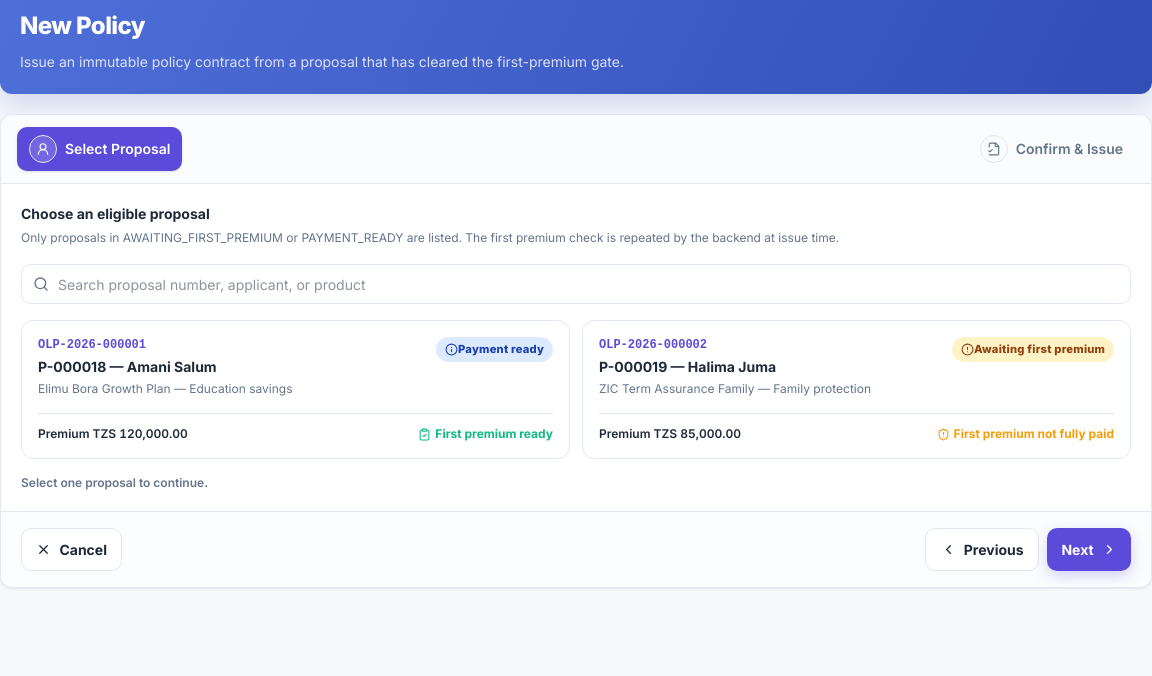
PolicyIssuanceWizard › renders ErrorCoach when the backend rejects an otherwise ready proposal
The image size is (1152, 676).
Click the button "OLP-2026-000001" at (296, 390), box [21,320,570,459]
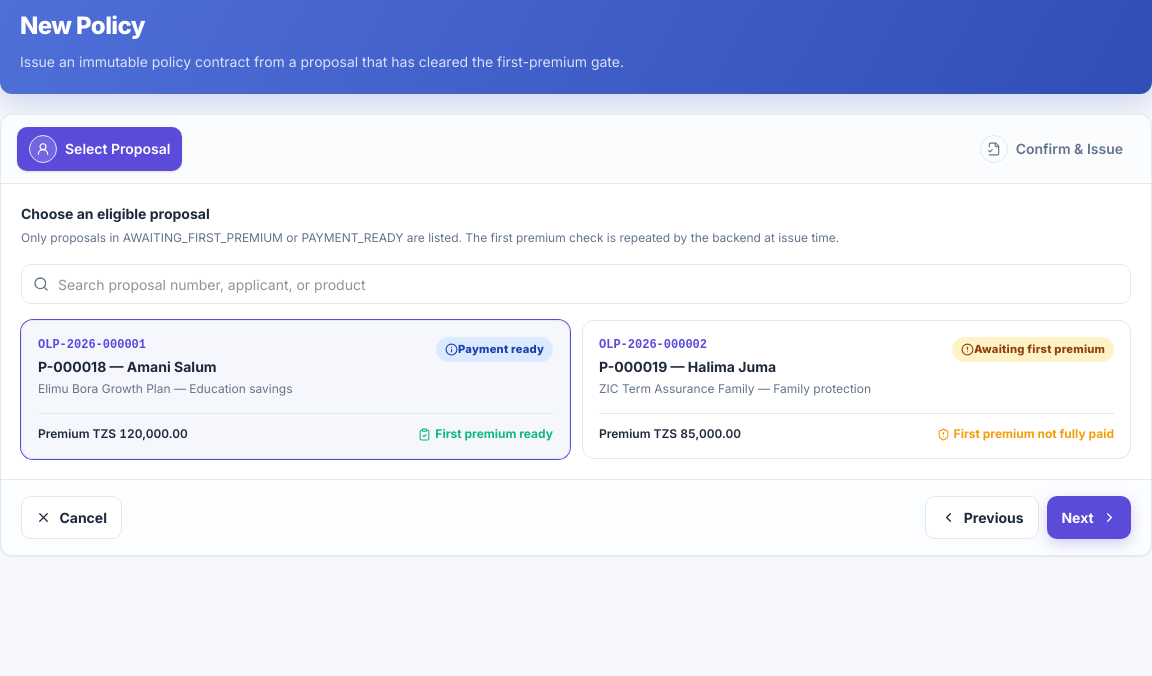
Click the button "Next" at (1089, 518), box [1047,496,1131,539]
(page scrolled)
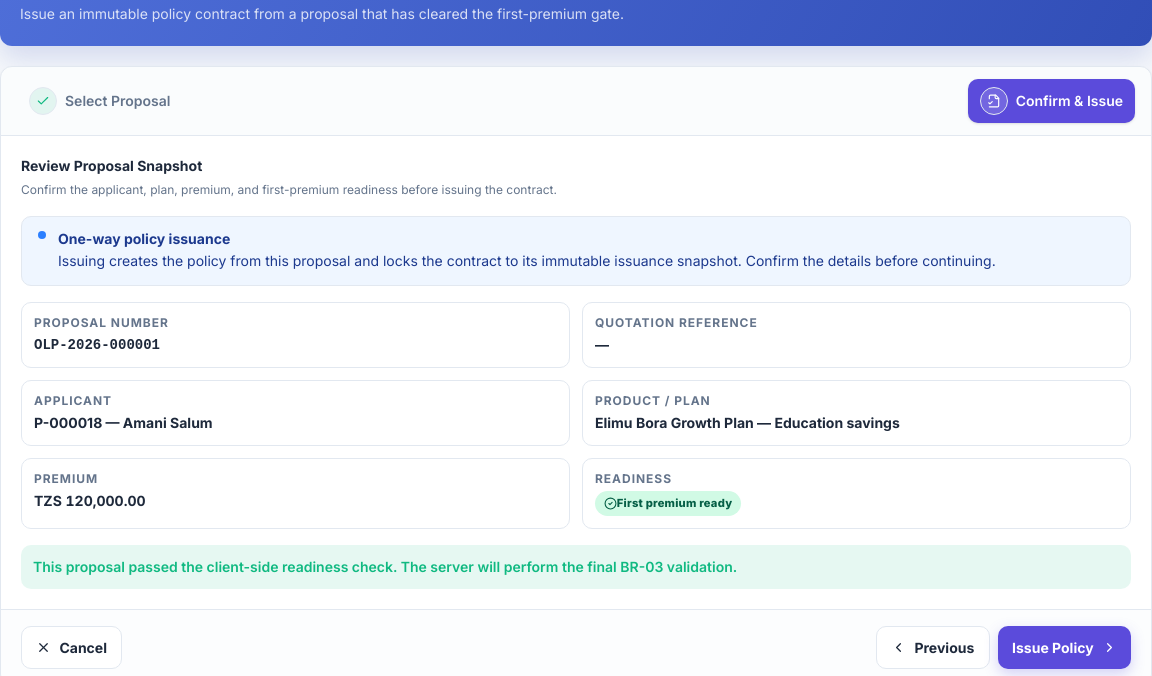
Now the element with test id "issuance-confirm-step" is shown
Click the button "Issue Policy" at (1064, 647), box [998,626,1131,669]
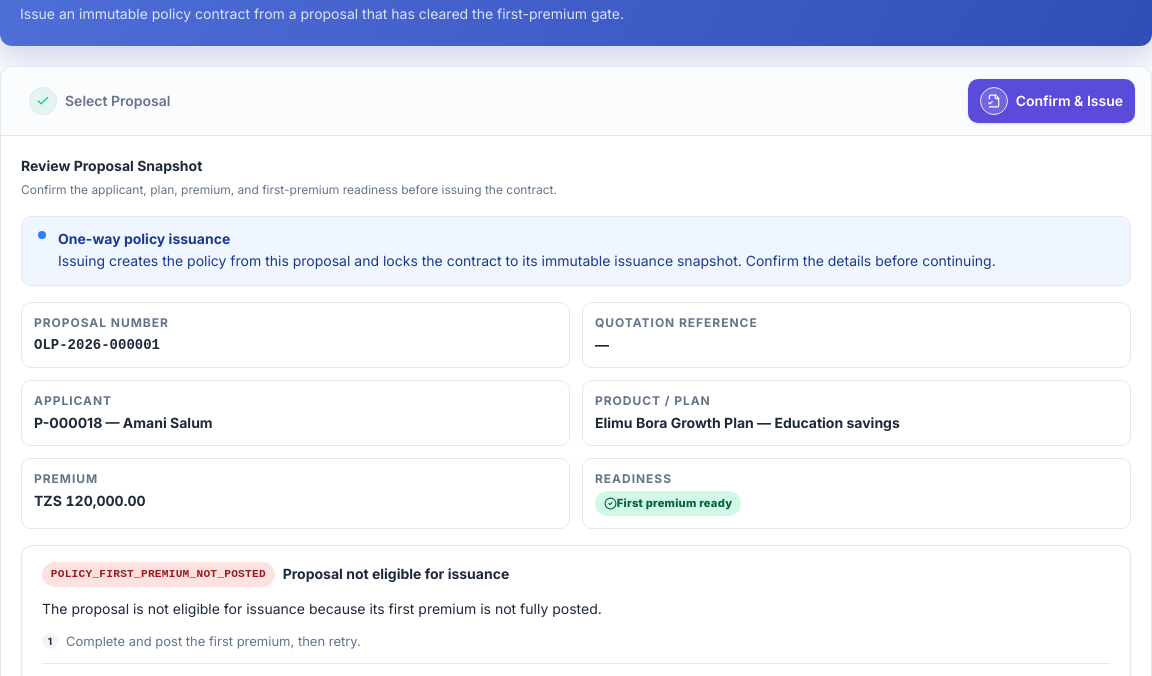
Now the heading "Proposal not eligible for issuance" is shown, box [283,564,509,584]
Now the text "The proposal is not eligible for issuance because its first premium is not fully posted." is shown, box [42,600,602,617]
Now the text "Complete and post the first premium, then retry." is shown, box [66,631,361,651]
